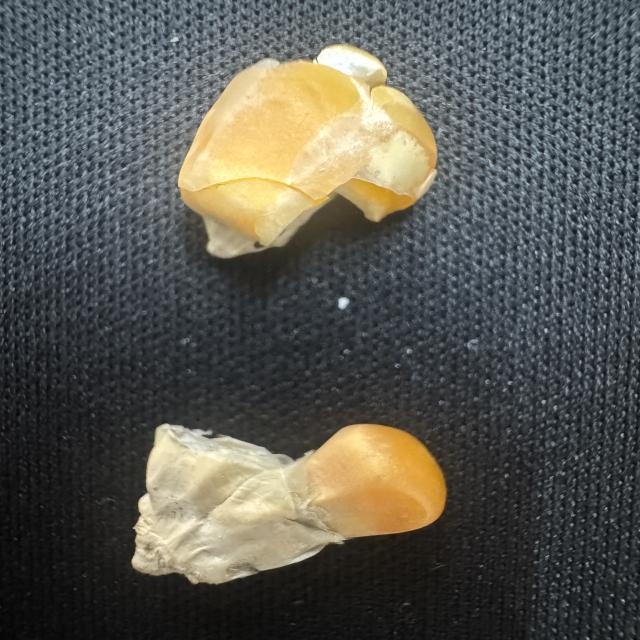Bad-Seed: (106, 408, 453, 596), (161, 34, 448, 258)
